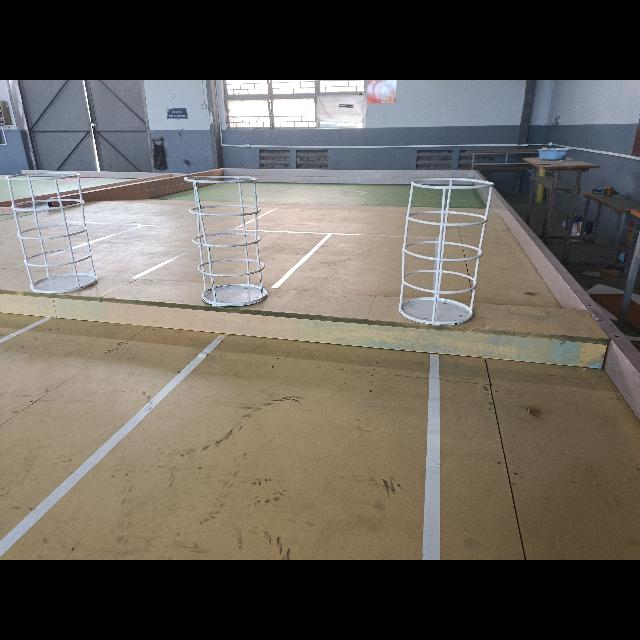S: (396, 177, 495, 327), (4, 170, 100, 295), (182, 173, 270, 308)
